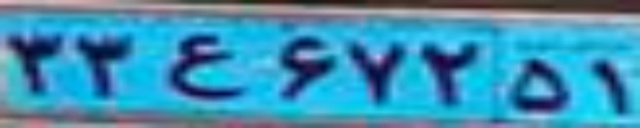1: (588, 57, 631, 114)
2: (416, 37, 482, 107)
3: (74, 33, 142, 99), (7, 30, 65, 92)
5: (504, 54, 569, 112)
6: (275, 34, 337, 100)
7: (346, 37, 408, 106)
ain: (164, 33, 250, 100)
